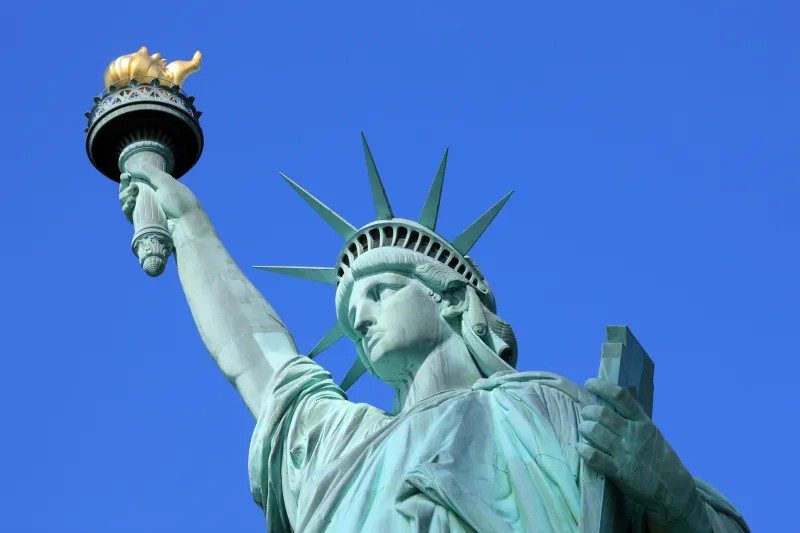SL: (84, 45, 750, 533)
